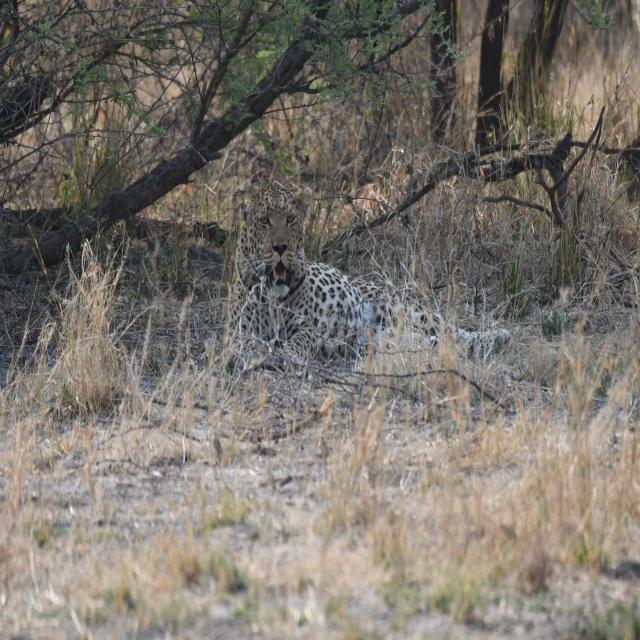Leopard: (230, 172, 515, 384)
